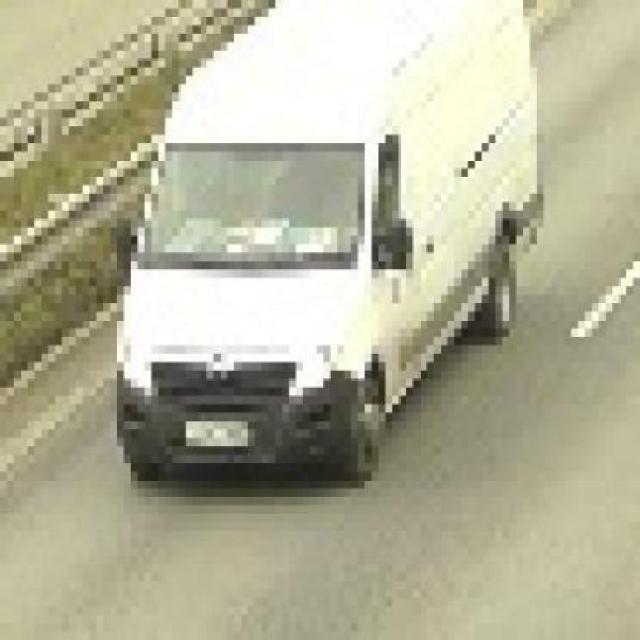vehicle: (95, 0, 571, 513)
